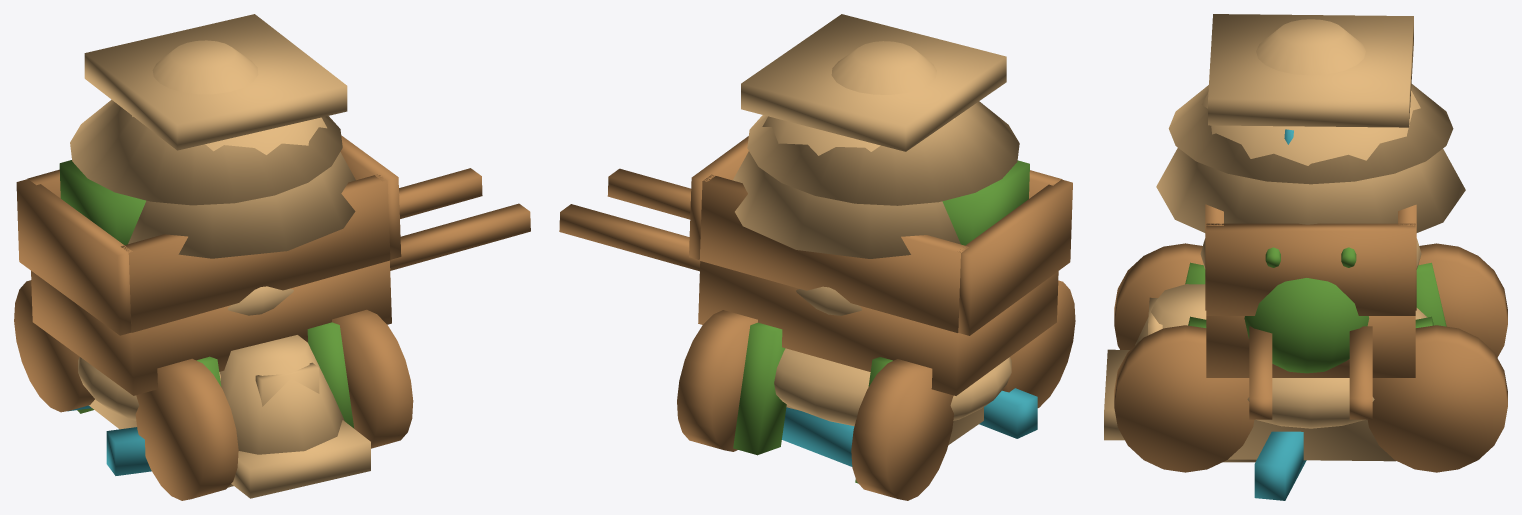
The model's file is automation.glb.
3 renders of one model, left to right at view 1: azimuth 30°, elevation 25°; view 2: azimuth 150°, elevation 25°; view 3: azimuth 270°, elevation 25°, orthographic. The views are drawn at different scales.
Parts seen in each view (by area): view 1: delivery-cart, seed-hopper, bee-hive, harvest-helper, sprinkler; view 2: delivery-cart, seed-hopper, bee-hive, harvest-helper, sprinkler; view 3: delivery-cart, seed-hopper, bee-hive, harvest-helper, sprinkler.
Part boxes in pixels (x1=…): delivery-cart: x1=14, y1=135, x2=530, y2=500; seed-hopper: x1=84, y1=14, x2=370, y2=498; bee-hive: x1=70, y1=40, x2=342, y2=487; harvest-helper: x1=59, y1=160, x2=354, y2=428; sprinkler: x1=67, y1=405, x2=151, y2=475; delivery-cart: x1=559, y1=136, x2=1075, y2=500; seed-hopper: x1=732, y1=14, x2=1006, y2=444; bee-hive: x1=747, y1=41, x2=1019, y2=426; harvest-helper: x1=733, y1=160, x2=1029, y2=483; sprinkler: x1=782, y1=388, x2=1037, y2=466; delivery-cart: x1=1114, y1=204, x2=1507, y2=472; seed-hopper: x1=1104, y1=14, x2=1465, y2=461; bee-hive: x1=1168, y1=19, x2=1453, y2=462; harvest-helper: x1=1185, y1=247, x2=1446, y2=373; sprinkler: x1=1254, y1=129, x2=1306, y2=500.
Bounding box in the file's own units: 1.24 × 1.04 × 0.9641.
